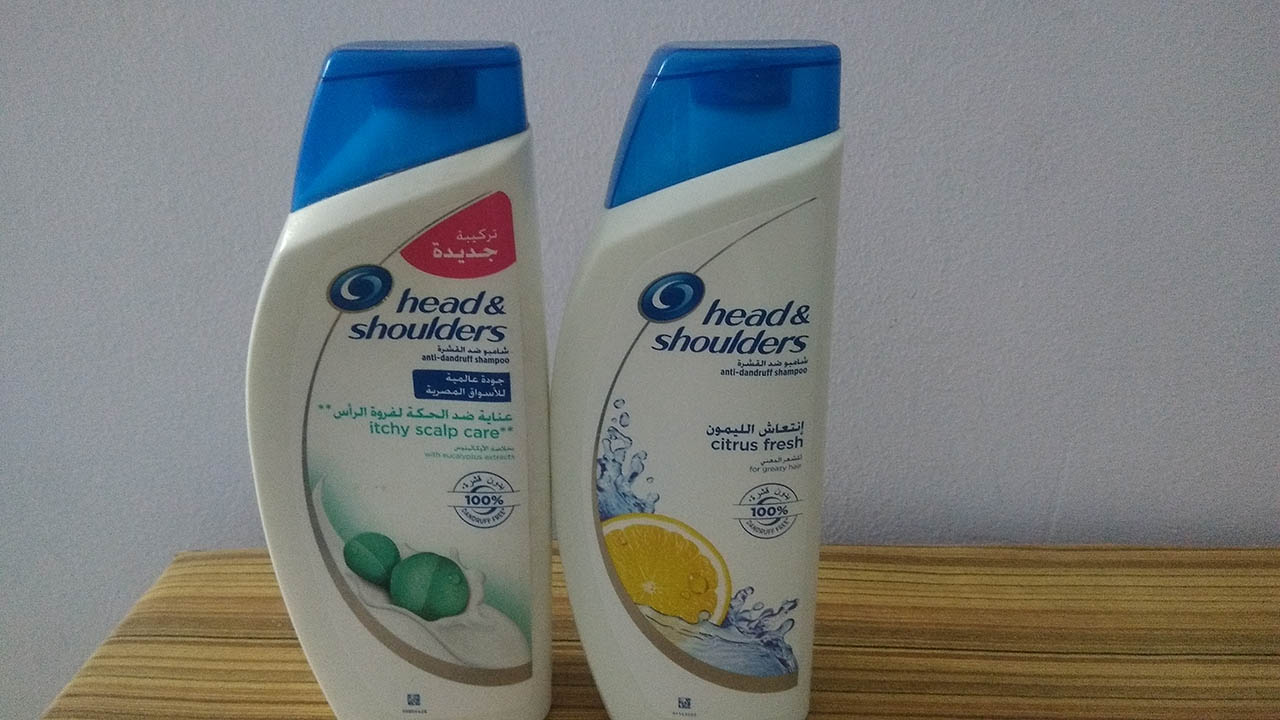shampoo-Lemon 3.5$: (564, 33, 854, 720)
shampoo-green 4.5$: (280, 34, 549, 720)
